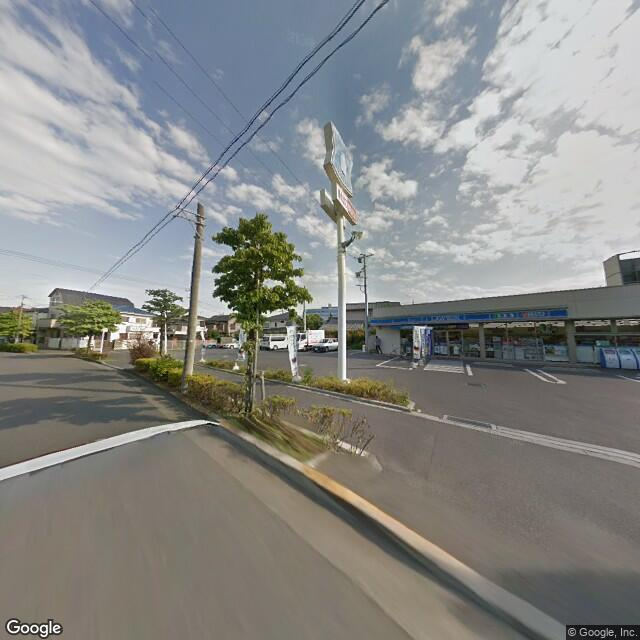lawson: (370, 301, 573, 329), (325, 124, 355, 190)
